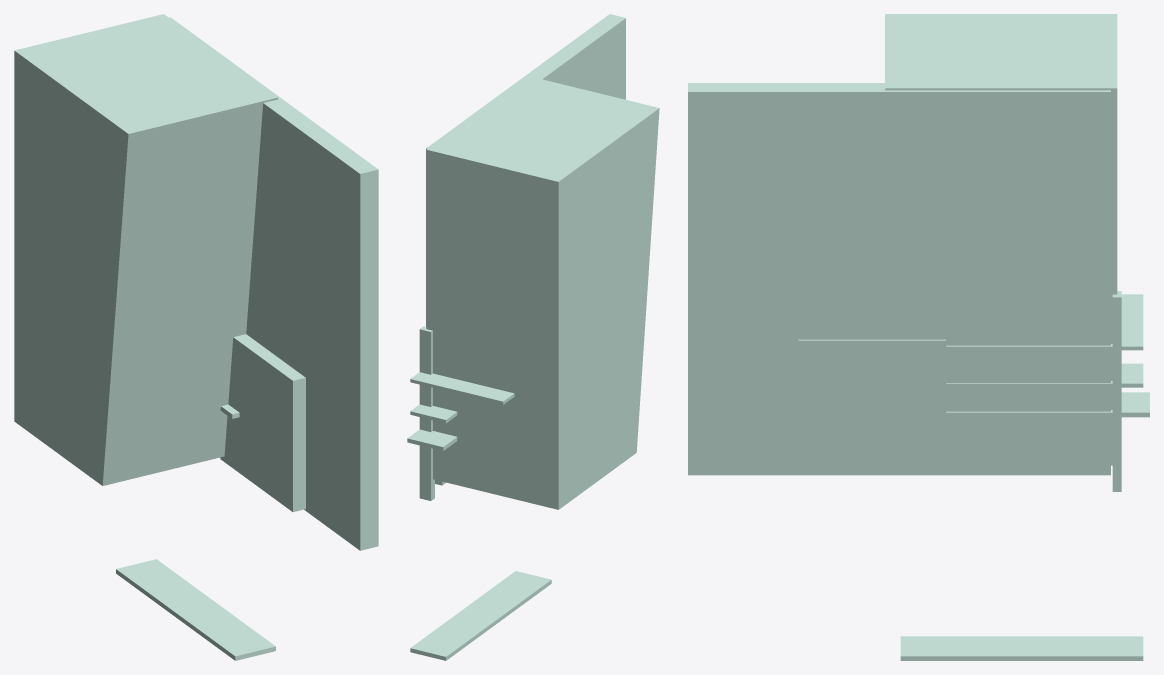
3 views of the same model, side by side, from view 1: azimuth 30°, elevation 25°; view 2: azimuth 150°, elevation 25°; view 3: azimuth 270°, elevation 25° (orthographic). The views are drawn at different scales.
Parts seen in each view (by area): view 1: Renderer Node; view 2: Renderer Node; view 3: Renderer Node.
Part boxes in pixels (left/top/right/bottom): Renderer Node: left=14, top=14, right=378, bottom=660; Renderer Node: left=407, top=14, right=659, bottom=660; Renderer Node: left=688, top=14, right=1149, bottom=660.
Bounding box in the file's own units: 0.6563 × 2.27 × 1.66.
